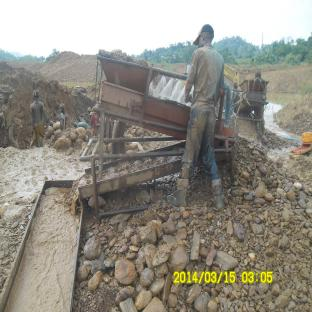ProcessingEquipment: (83, 45, 244, 193)
